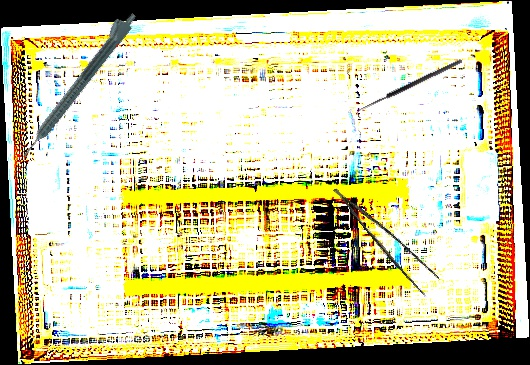Handpiece: (13, 6, 140, 160)
Hook Surgical: (354, 57, 466, 120)
Tissue Forceps: (333, 173, 444, 301)
